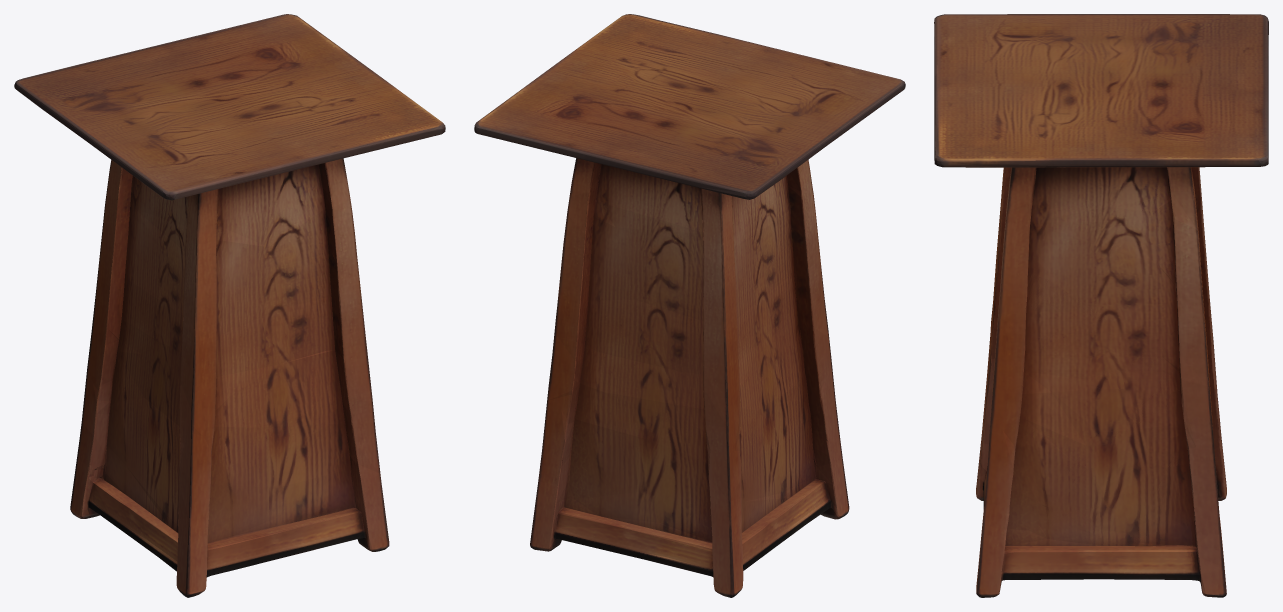
File: podium.glb
The picture shows the model from 3 angles, left to right: view 1: azimuth 30°, elevation 25°; view 2: azimuth 150°, elevation 25°; view 3: azimuth 270°, elevation 25°; orthographic projection. The views are drawn at different scales.
Parts seen in each view (by area): view 1: world; view 2: world; view 3: world.
Boxes of the visible parts, left/top/right/bottom form: world: left=14, top=14, right=445, bottom=597; world: left=474, top=14, right=905, bottom=597; world: left=934, top=14, right=1268, bottom=597.
Size of the model in its own units: 13.7 by 20 by 13.18.
Materials: 1 (1 with a texture image).
